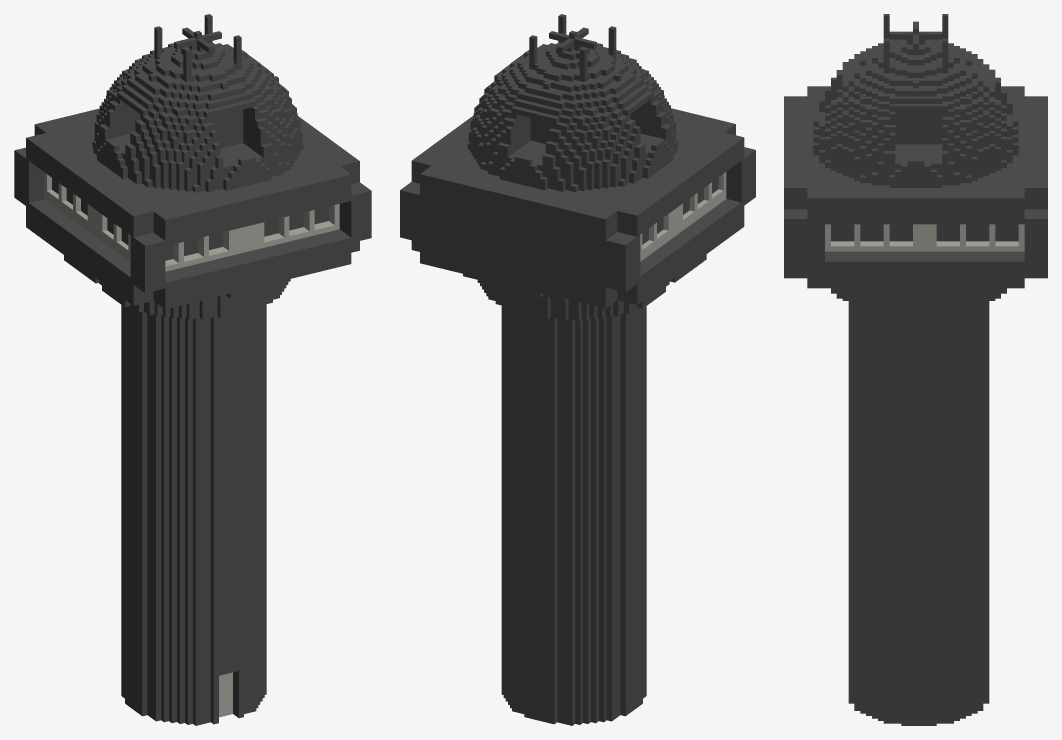
Rendered from Control_Tower_Building.obj.
3 views of the same model, side by side, from view 1: azimuth 30°, elevation 25°; view 2: azimuth 150°, elevation 25°; view 3: azimuth 270°, elevation 25° (orthographic).
Bounding box in the file's own units: 45 × 126 × 45.
